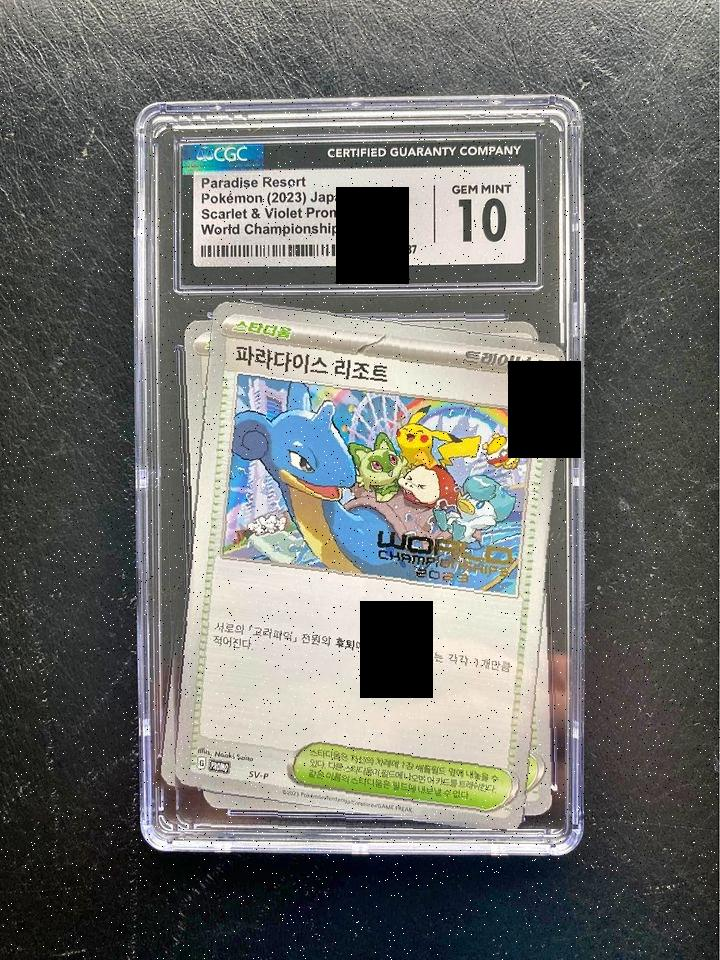card: (175, 302, 565, 829)
